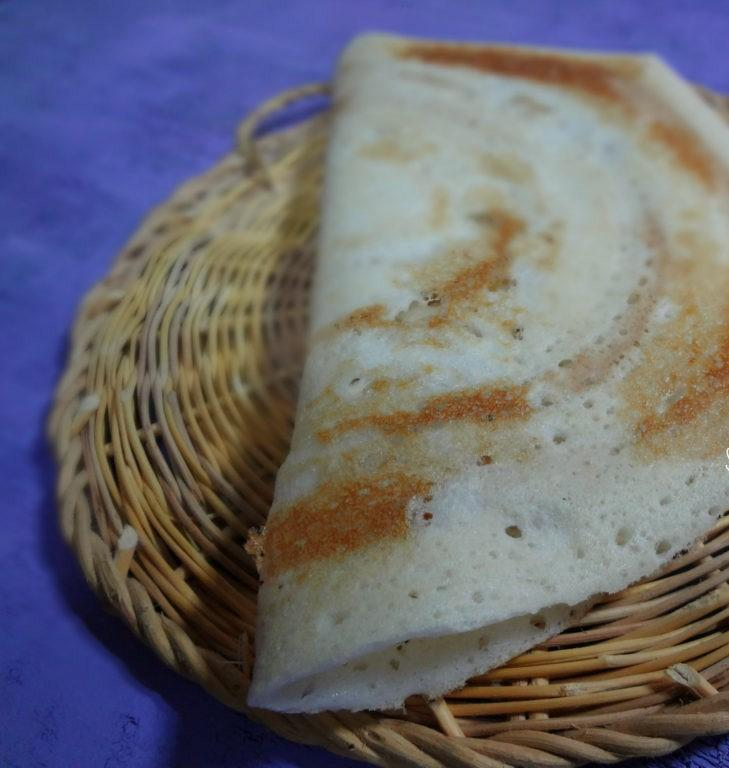Dosa: (248, 34, 729, 708)
